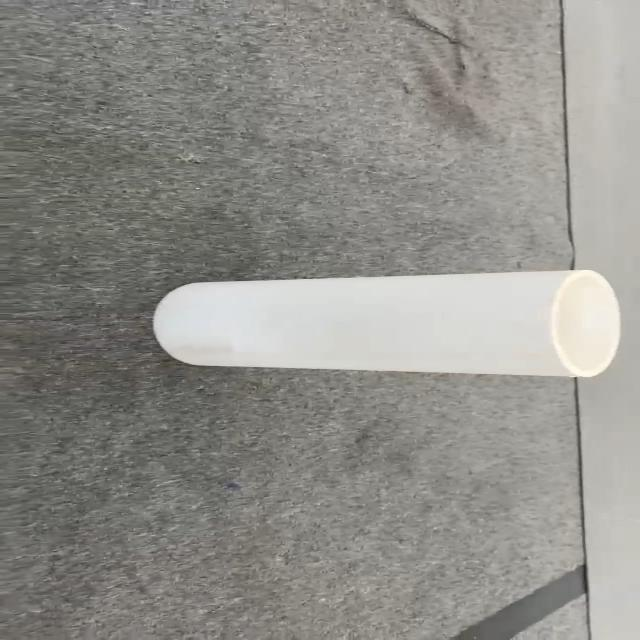coral: (151, 268, 621, 378)
